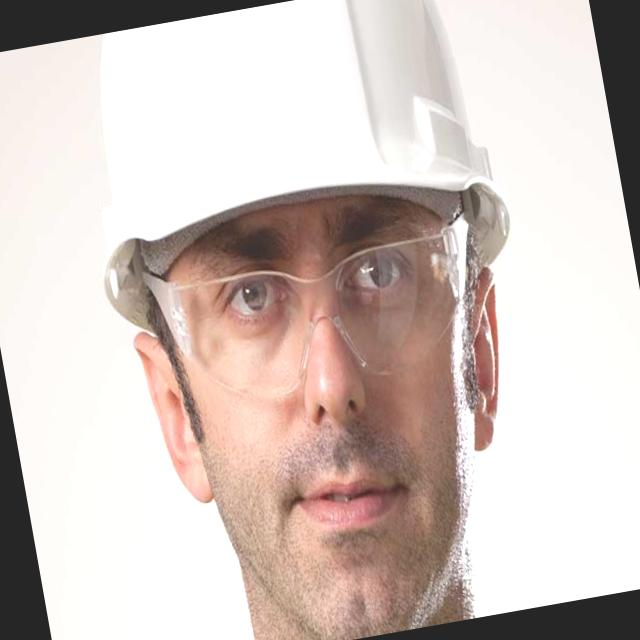goggles: (134, 194, 511, 418)
helmet: (55, 0, 524, 349)
